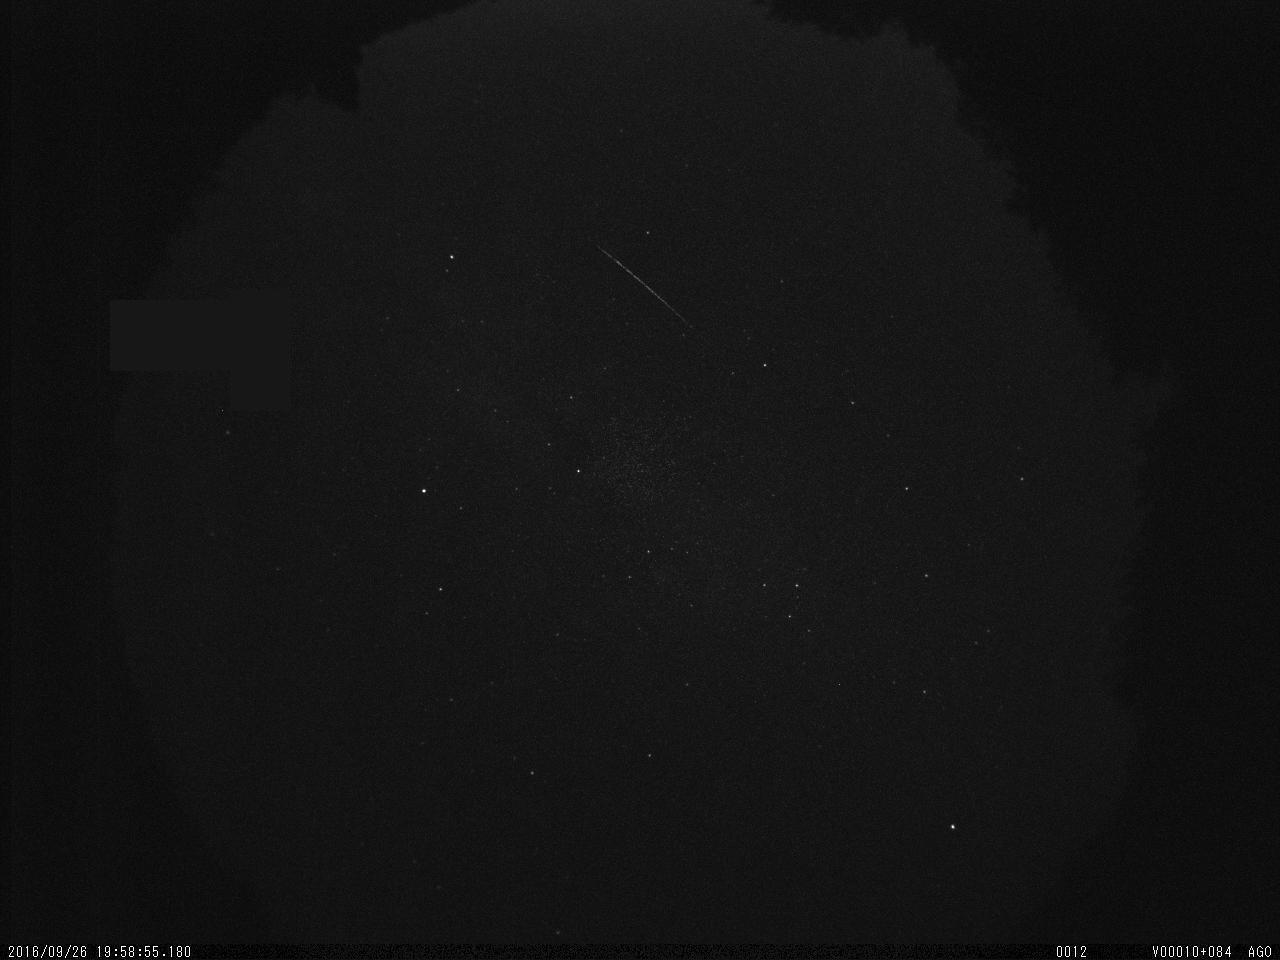meteor: (572, 220, 723, 370)
